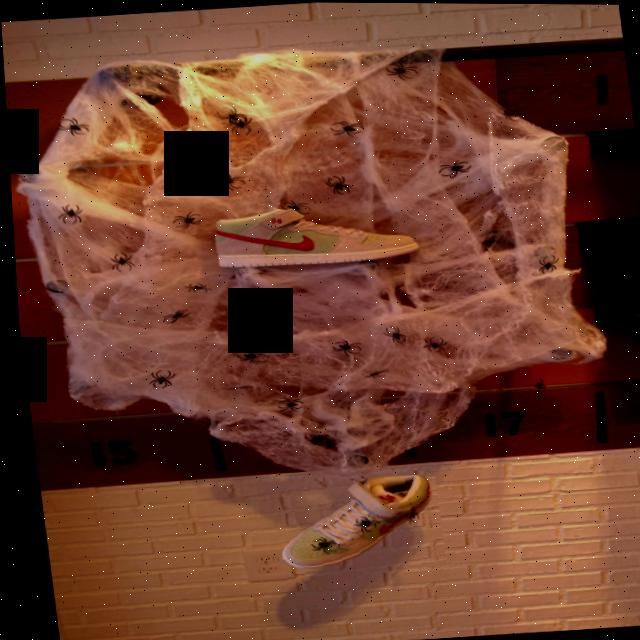shoe: (252, 472, 441, 585), (193, 190, 429, 276)
